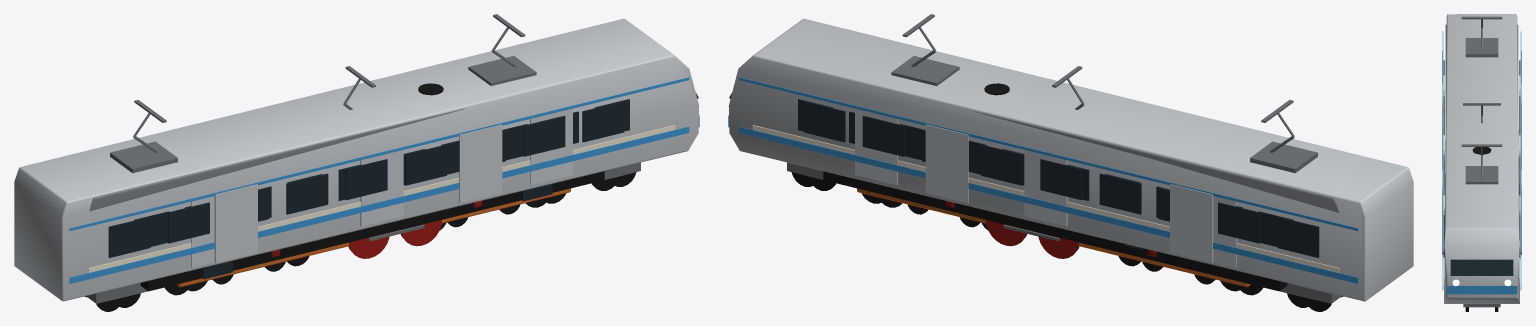
File: trains.glb
3 views of the same model, side by side, from view 1: azimuth 30°, elevation 25°; view 2: azimuth 150°, elevation 25°; view 3: azimuth 270°, elevation 25° (orthographic). The views are drawn at different scales.
Visible parts, largest first — view 1: jr, iyotetsu, tram, botchan_loco; view 2: jr, iyotetsu, tram, botchan_loco; view 3: jr, iyotetsu, tram, botchan_loco.
Part boxes in pixels (x1,y1,x2,y2): jr: [14, 18, 699, 311]; iyotetsu: [88, 14, 675, 307]; tram: [177, 66, 570, 287]; botchan_loco: [271, 83, 482, 258]; jr: [728, 18, 1413, 311]; iyotetsu: [752, 14, 1339, 307]; tram: [857, 66, 1250, 287]; botchan_loco: [945, 83, 1156, 258]; jr: [1442, 14, 1521, 311]; iyotetsu: [1443, 24, 1520, 283]; tram: [1463, 103, 1500, 123]; botchan_loco: [1472, 147, 1491, 154].
Bounding box in the file's own units: 19.61 × 5.32 × 2.92.
